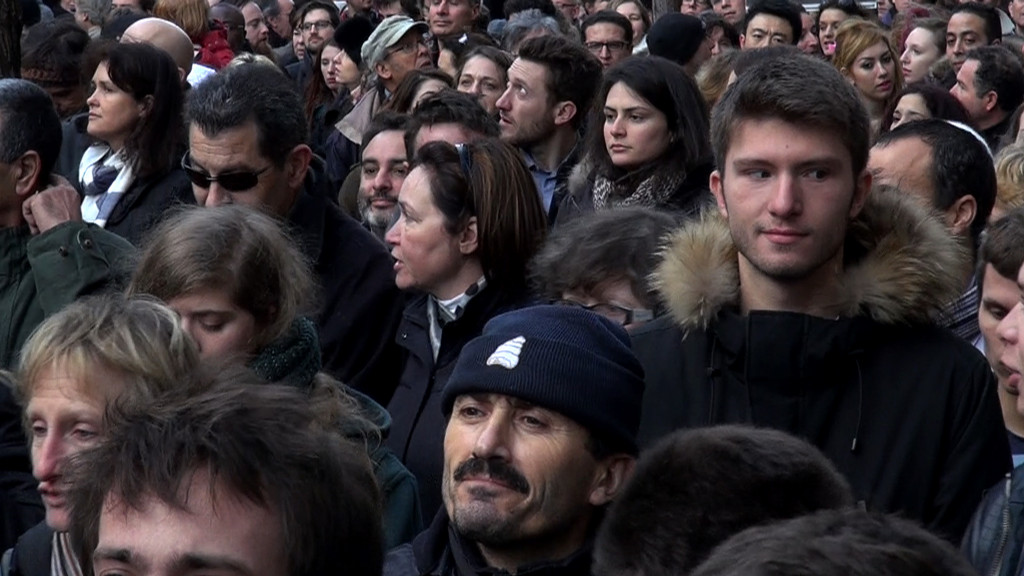without_mask: (440, 346, 587, 535), (721, 112, 860, 276), (19, 403, 102, 534), (386, 173, 475, 289), (190, 119, 262, 214), (589, 87, 659, 158), (500, 56, 549, 151), (86, 61, 132, 139), (362, 147, 404, 223), (387, 31, 440, 72), (855, 44, 893, 94), (897, 33, 928, 80), (331, 48, 362, 84), (302, 18, 330, 48), (248, 12, 267, 47)
